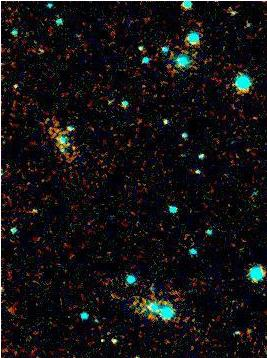star: (229, 316, 259, 346)
